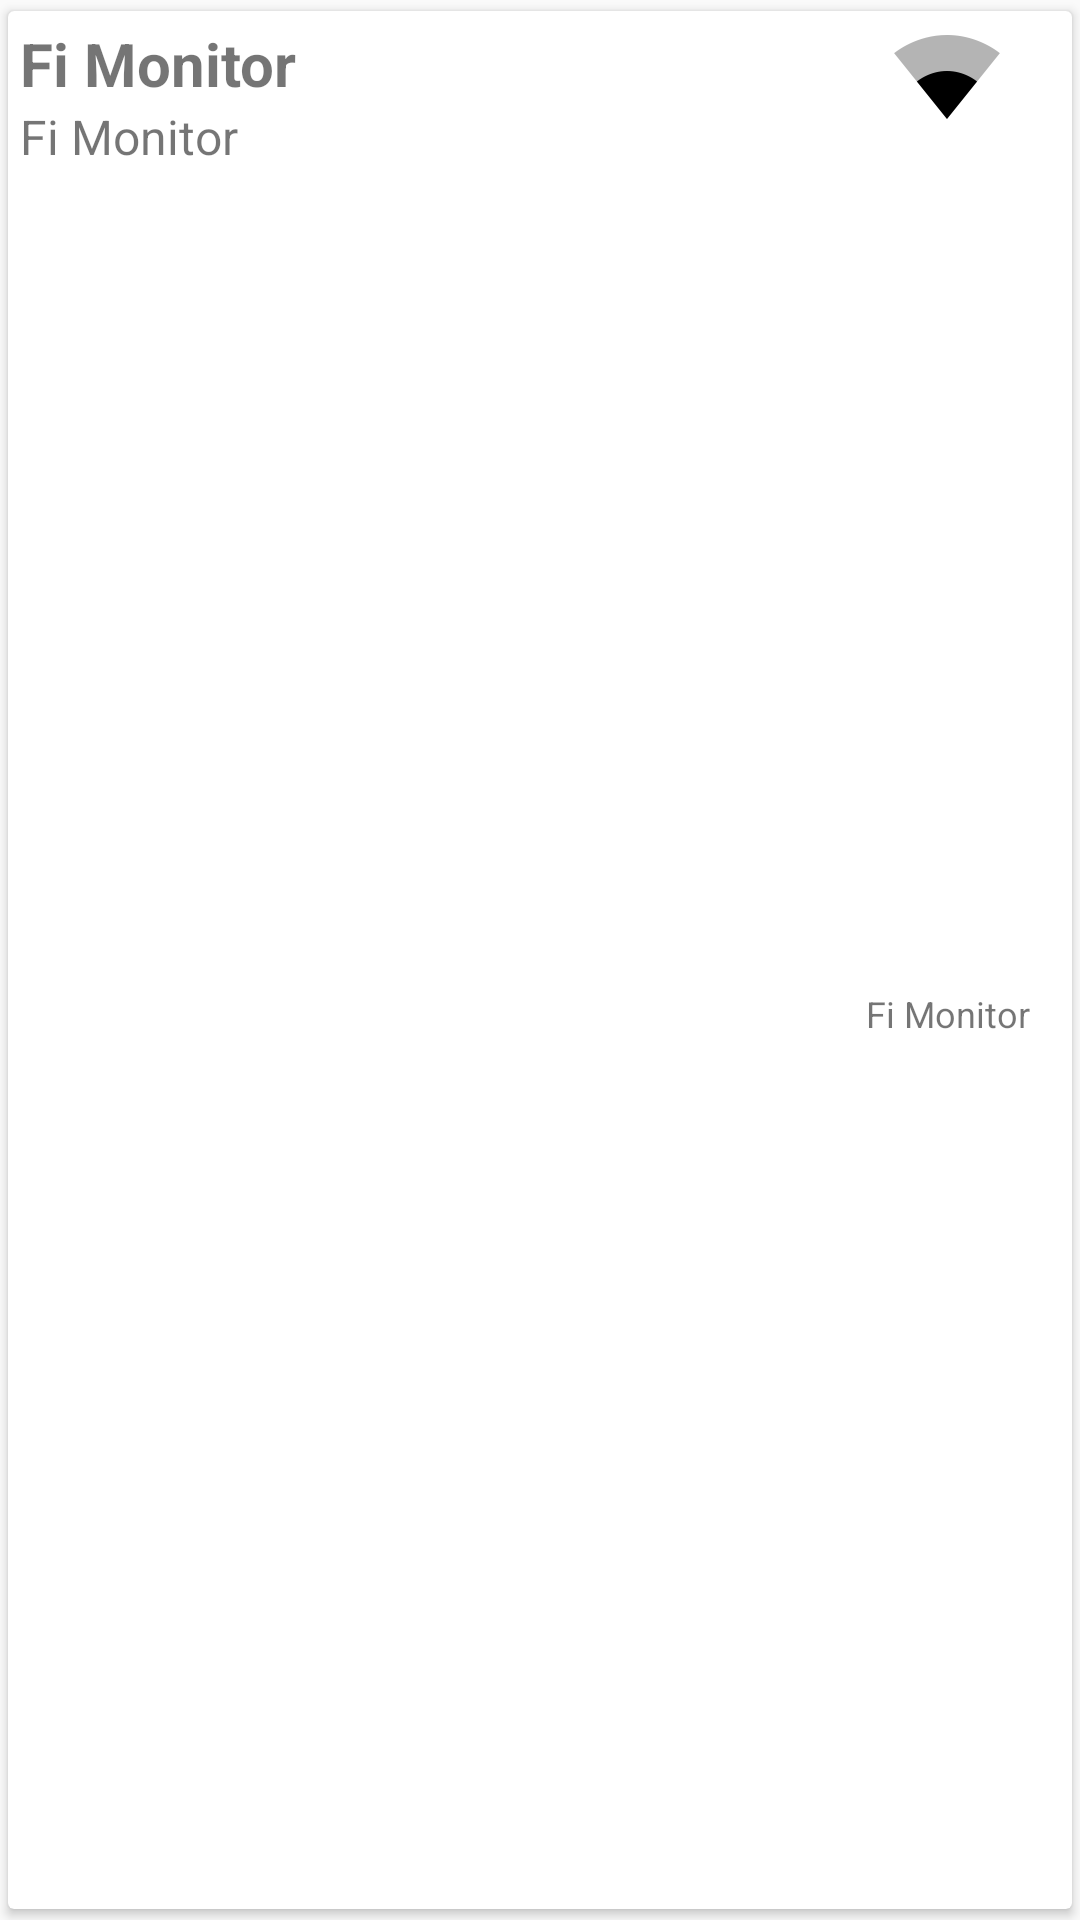

Screen size 1080 x 1920. Icon name, then its box in pixels as detection(x1, y1, x2, y2):
signal wifi bar: detection(894, 35, 1000, 119)
